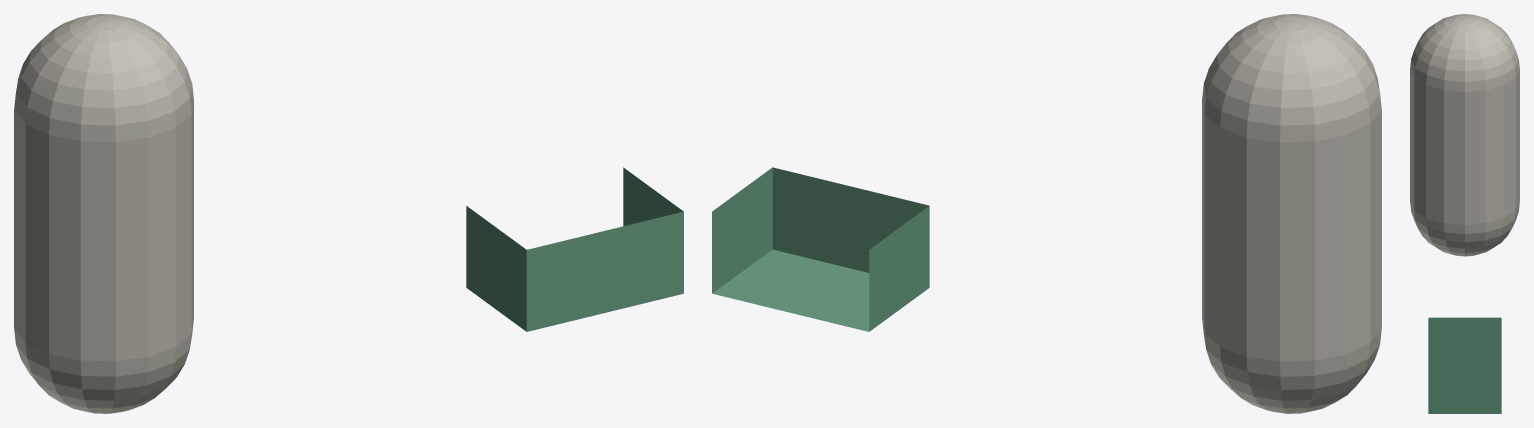
Rendered from volumenes.obj.
3 renders of one model, left to right at view 1: azimuth 30°, elevation 25°; view 2: azimuth 150°, elevation 25°; view 3: azimuth 270°, elevation 25°, orthographic. The views are drawn at different scales.
Visible parts, largest first — view 1: cupula, abierta; view 2: cupula, abierta; view 3: cupula, abierta.
Part boxes in pixels (<box>): cupula: <box>14,14,193,413</box>; abierta: <box>466,167,683,331</box>; cupula: <box>1202,14,1381,413</box>; abierta: <box>712,167,929,331</box>; cupula: <box>1410,14,1519,256</box>; abierta: <box>1428,317,1501,413</box>.
Bounding box in the file's own units: 24 × 14 × 6.
